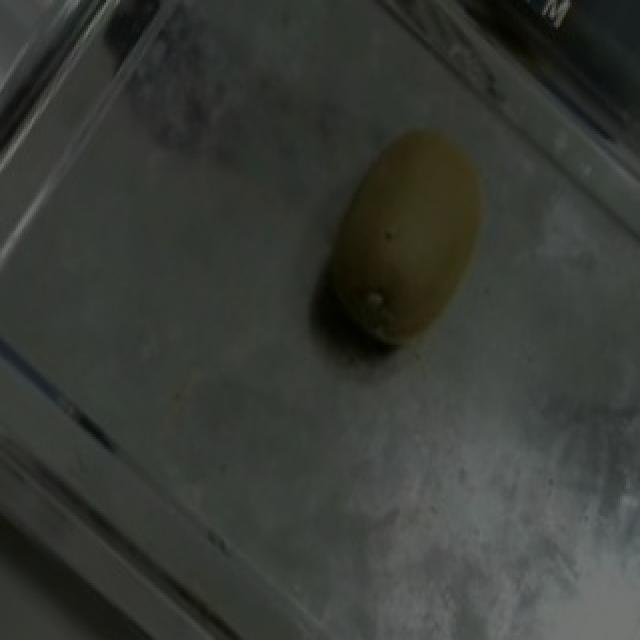Fruit: (278, 94, 532, 387)
